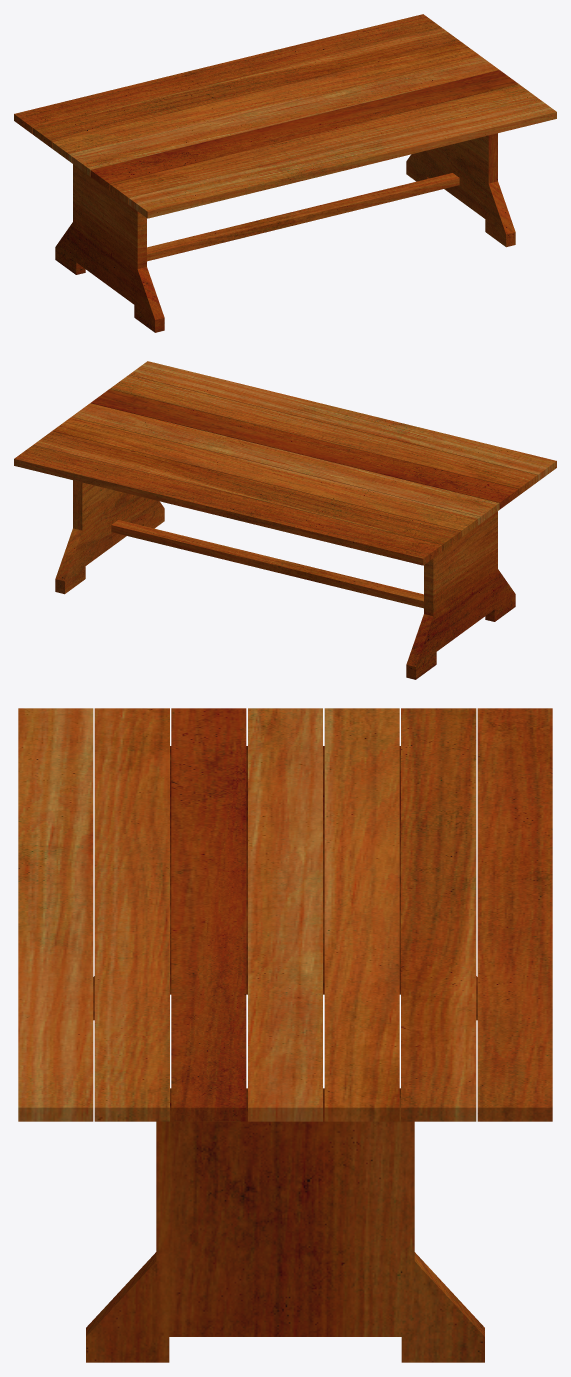
File: table 2.fbx
3 renders of one model, top to bottom at view 1: azimuth 30°, elevation 25°; view 2: azimuth 150°, elevation 25°; view 3: azimuth 270°, elevation 25°, orthographic. The views are drawn at different scales.
Visible parts, largest first — view 1: Cube; view 2: Cube; view 3: Cube.
Boxes of the visible parts, bbox=[...] form: Cube: bbox=[14, 14, 556, 332]; Cube: bbox=[14, 361, 556, 679]; Cube: bbox=[18, 708, 552, 1362].
Bounding box in the file's own units: 200 × 65.12 × 113.
